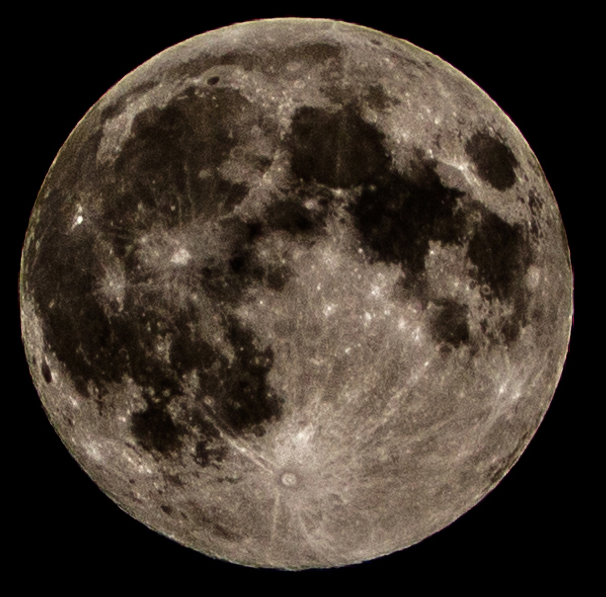crater: (198, 386, 400, 546), (136, 208, 227, 304), (86, 249, 142, 318), (196, 63, 231, 96), (520, 257, 544, 297), (34, 346, 56, 387), (63, 200, 93, 229), (317, 296, 340, 320), (360, 34, 385, 54), (475, 278, 497, 299), (297, 193, 318, 214)
